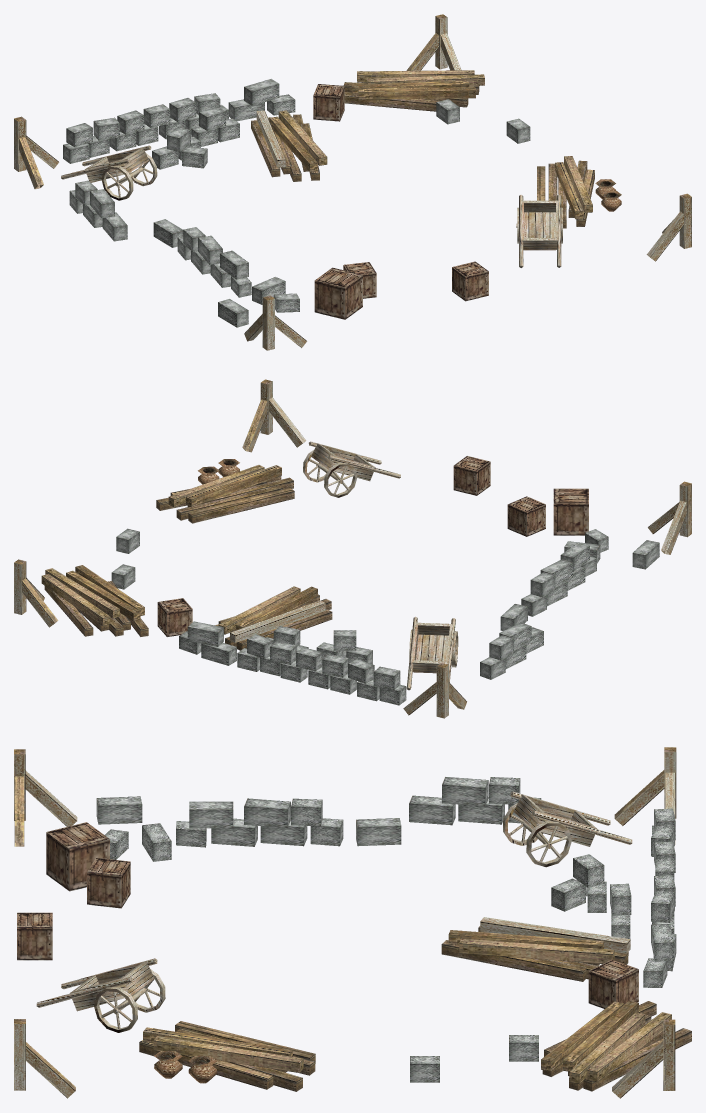
The model's file is found_5x5_b.dae.
3 renders of one model, top to bottom at view 1: azimuth 30°, elevation 25°; view 2: azimuth 150°, elevation 25°; view 3: azimuth 270°, elevation 25°, orthographic. The views are drawn at different scales.
Visible parts, largest first — view 1: found_5x5_a; view 2: found_5x5_a; view 3: found_5x5_a.
Boxes of the visible parts, x1=… form: found_5x5_a: x1=14, y1=14, x2=691, y2=350; found_5x5_a: x1=14, y1=379, x2=691, y2=718; found_5x5_a: x1=14, y1=747, x2=691, y2=1098.
Bounding box in the file's own units: 24.85 × 3.08 × 25.36.
